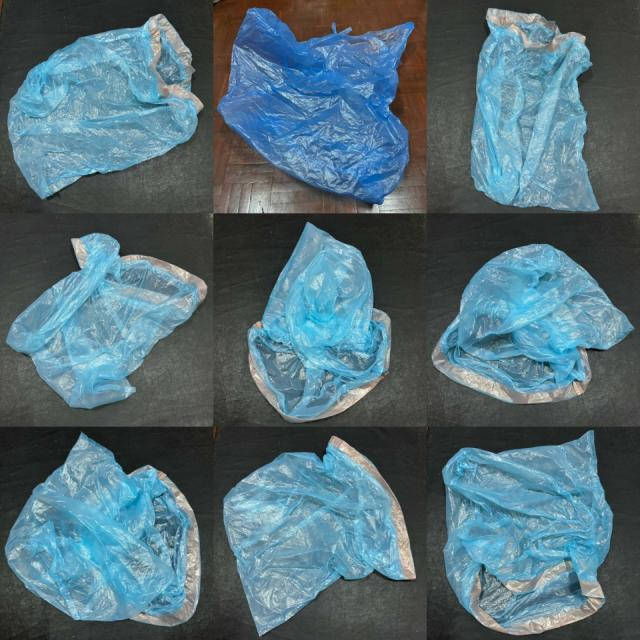Single-layer Plastic: (224, 436, 415, 635), (219, 9, 414, 203), (5, 434, 199, 625), (8, 14, 202, 199), (6, 234, 206, 408), (442, 431, 612, 635), (431, 244, 632, 404), (248, 222, 390, 422), (471, 9, 599, 211)
